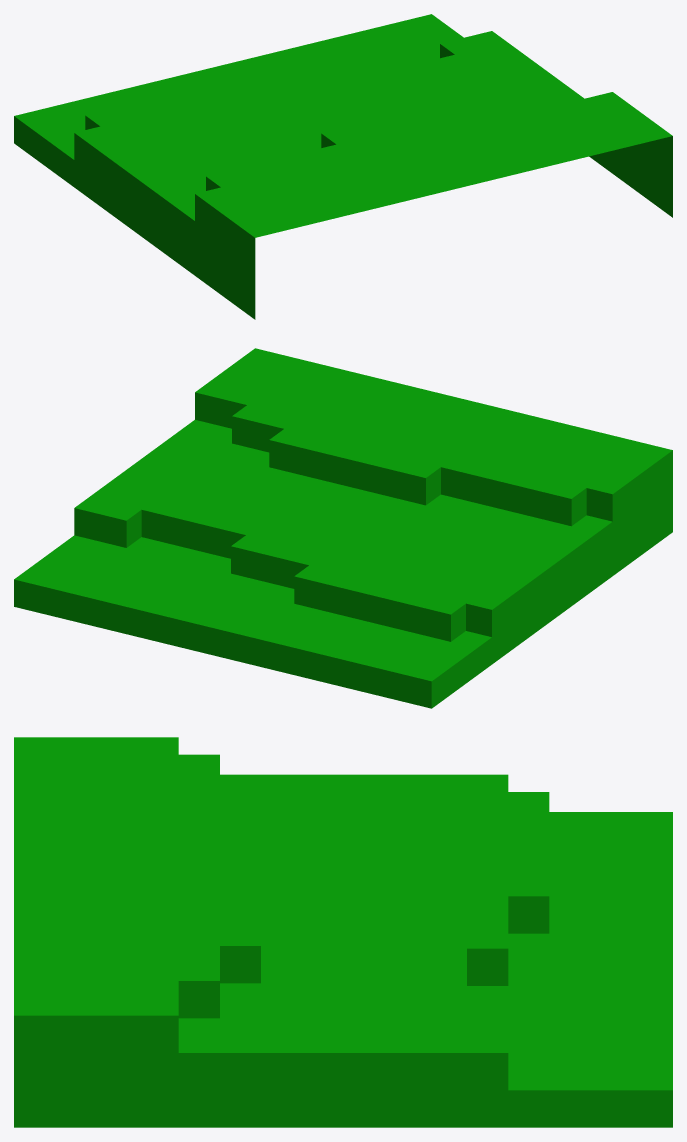
Rendered from Straight17.fbx.
3 views of the same model, one above another, from view 1: azimuth 30°, elevation 25°; view 2: azimuth 150°, elevation 25°; view 3: azimuth 270°, elevation 25° (orthographic). The views are drawn at different scales.
Parts seen in each view (by area): view 1: Matrix; view 2: Matrix; view 3: Matrix.
Part boxes in pixels (box(x1,y1,x2,y2)): Matrix: box(14, 14, 672, 319); Matrix: box(14, 348, 672, 708); Matrix: box(14, 737, 672, 1127).
Size of the model in its own units: 16 by 3 by 16.
1 material, 1 textured.
